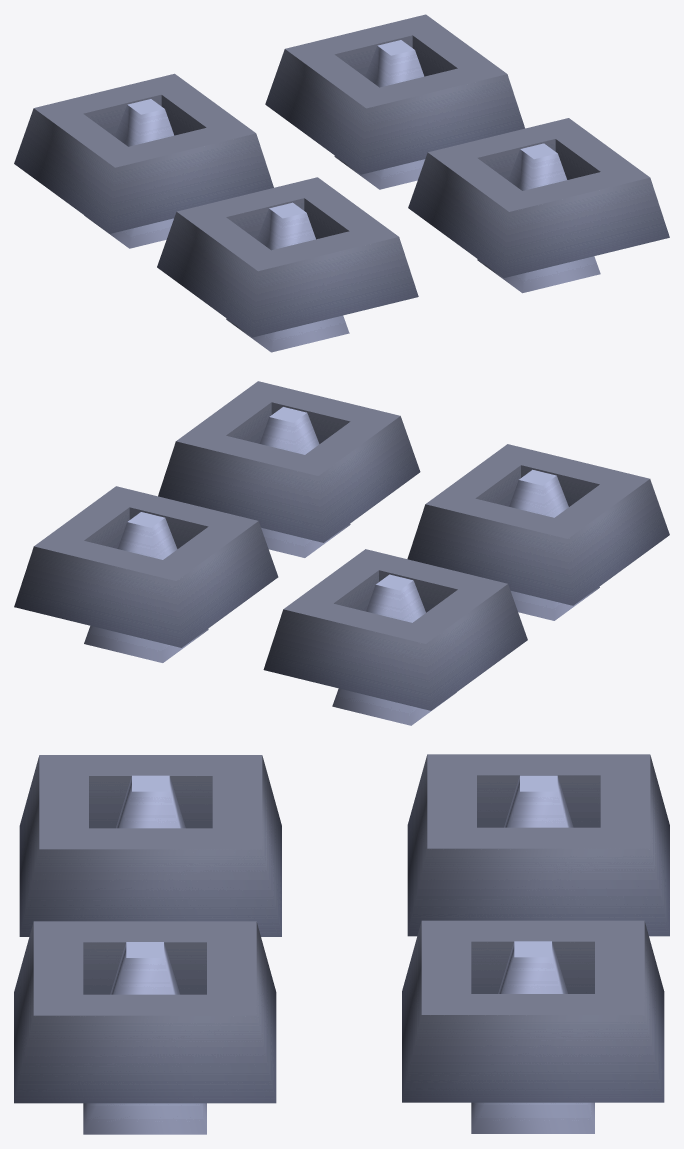
File: trap-spikes.glb
3 views of the same model, one above another, from view 1: azimuth 30°, elevation 25°; view 2: azimuth 150°, elevation 25°; view 3: azimuth 270°, elevation 25° (orthographic). The views are drawn at different scales.
Visible parts, largest first — view 1: trap-spikes, spikes; view 2: trap-spikes, spikes; view 3: trap-spikes, spikes.
Boxes of the visible parts, x1=… form: trap-spikes: x1=14, y1=14, x2=669, y2=337; spikes: x1=84, y1=40, x2=600, y2=352; trap-spikes: x1=14, y1=381, x2=669, y2=710; spikes: x1=84, y1=407, x2=599, y2=725; trap-spikes: x1=14, y1=754, x2=669, y2=1103; spikes: x1=83, y1=775, x2=594, y2=1134.
Size of the model in its own units: 0.6392 by 0.17 by 0.6375.
Materials: 1 (1 with a texture image).
